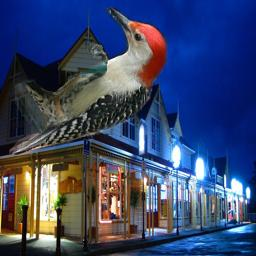Woodpecker: (9, 7, 168, 156)
